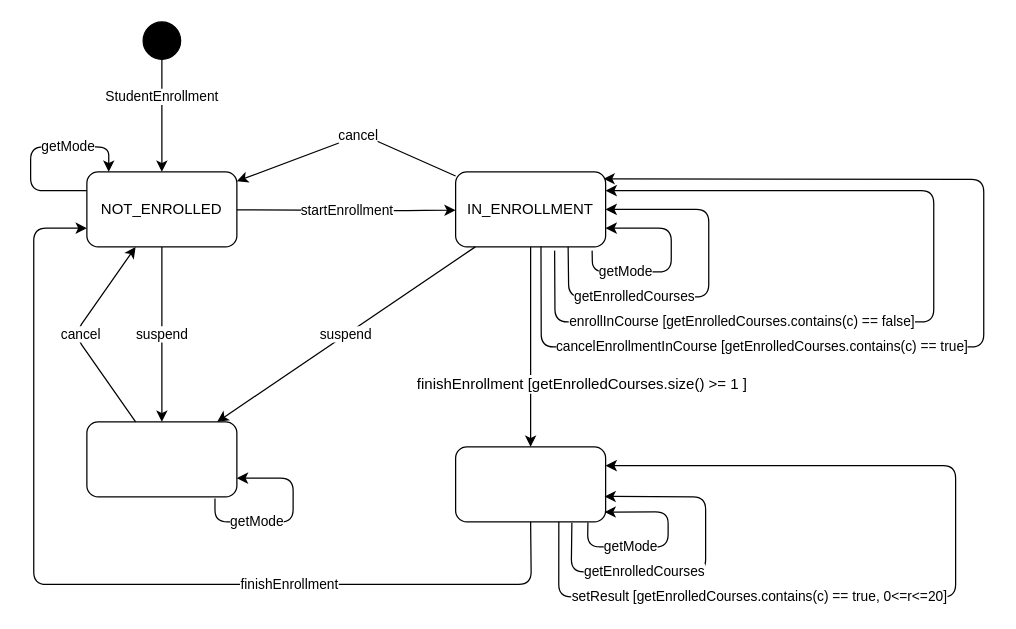
This 1016x629 diagram has some shape labels left out. The shapes that lost their labels are listed below. From the top down, each one's centre as x and y in pixels, then its label:
the point at 161,459: SUSPENDED
the point at 530,484: ENROLLED
